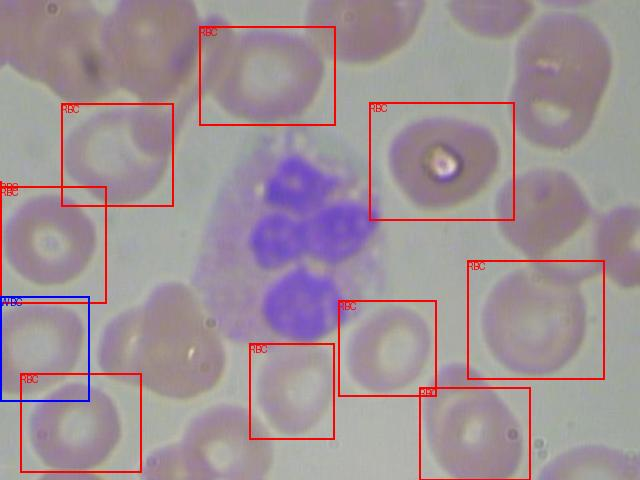RBC: (369, 102, 514, 220), (467, 260, 604, 379), (199, 26, 335, 125), (0, 186, 106, 303), (20, 373, 141, 472), (61, 103, 173, 206), (419, 387, 530, 480), (338, 300, 436, 396), (249, 343, 334, 439), (0, 181, 1, 298)
WBC: (0, 296, 89, 401)
